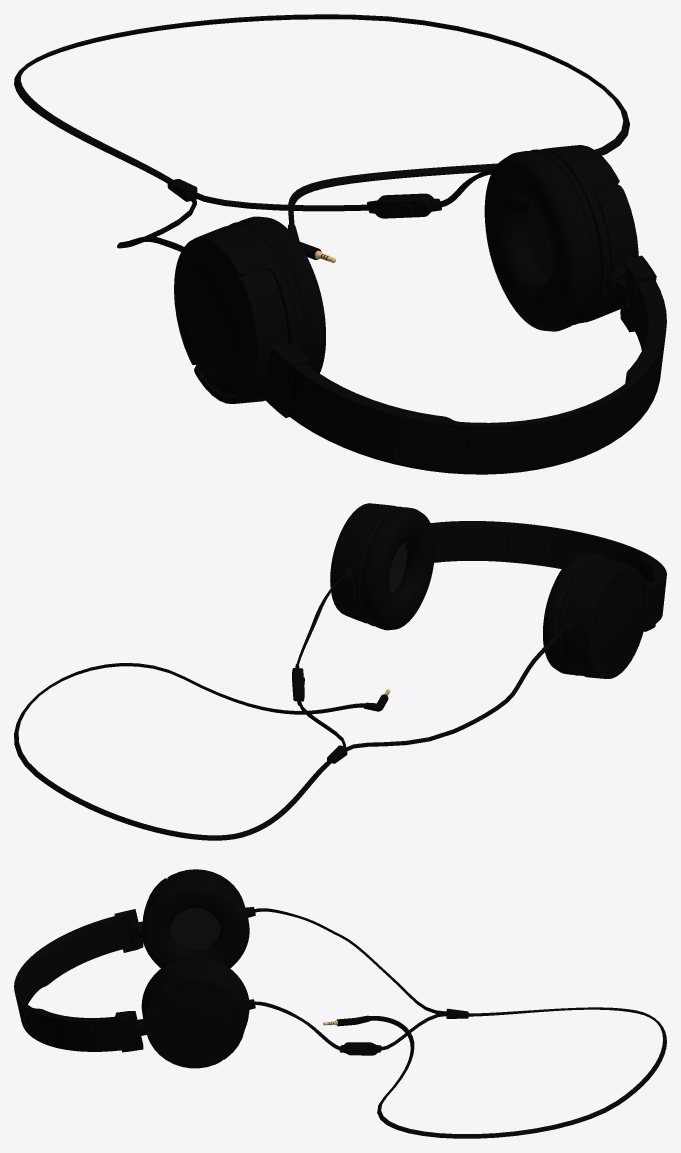
File: jbl_t450.glb
3 views of the same model, one above another, from view 1: azimuth 30°, elevation 25°; view 2: azimuth 150°, elevation 25°; view 3: azimuth 270°, elevation 25° (orthographic). The views are drawn at different scales.
Visible parts, largest first — view 1: Arc.001_11, Pillow.001_6, Zoomer.001_9, Wire.001_8, Holder.001_2, Joints.001_5, Button.001_0, Plane.001_7; view 2: Zoomer.001_9, Pillow.001_6, Arc.001_11, Wire.001_8, Holder.001_2, Plane.001_7, Joints.001_5; view 3: Zoomer.001_9, Arc.001_11, Pillow.001_6, Wire.001_8, Plane.001_7, Joints.001_5, Holder.001_2, Button.001_0.
Boxes of the visible parts, x1,y1,x2,y2 form: Arc.001_11: (287, 279, 666, 474); Pillow.001_6: (229, 149, 600, 373); Zoomer.001_9: (174, 145, 619, 395); Wire.001_8: (14, 14, 629, 251); Holder.001_2: (194, 184, 638, 403); Joints.001_5: (264, 255, 656, 417); Button.001_0: (367, 193, 441, 218); Plane.001_7: (526, 203, 552, 280); Zoomer.001_9: (330, 503, 643, 676); Pillow.001_6: (355, 506, 607, 675); Arc.001_11: (430, 521, 666, 623); Wire.001_8: (14, 574, 565, 840); Holder.001_2: (345, 561, 647, 678); Plane.001_7: (389, 542, 406, 594); Joints.001_5: (643, 581, 659, 631); Zoomer.001_9: (143, 869, 247, 1064); Arc.001_11: (14, 916, 122, 1051); Pillow.001_6: (141, 877, 249, 1025); Wire.001_8: (254, 908, 666, 1138); Plane.001_7: (170, 908, 219, 950); Joints.001_5: (114, 909, 143, 1052); Holder.001_2: (128, 878, 222, 1068); Button.001_0: (339, 1042, 381, 1055).
Bounding box in the file's own units: 0.3033 × 0.0784 × 0.4719.
9 materials, 1 textured.
